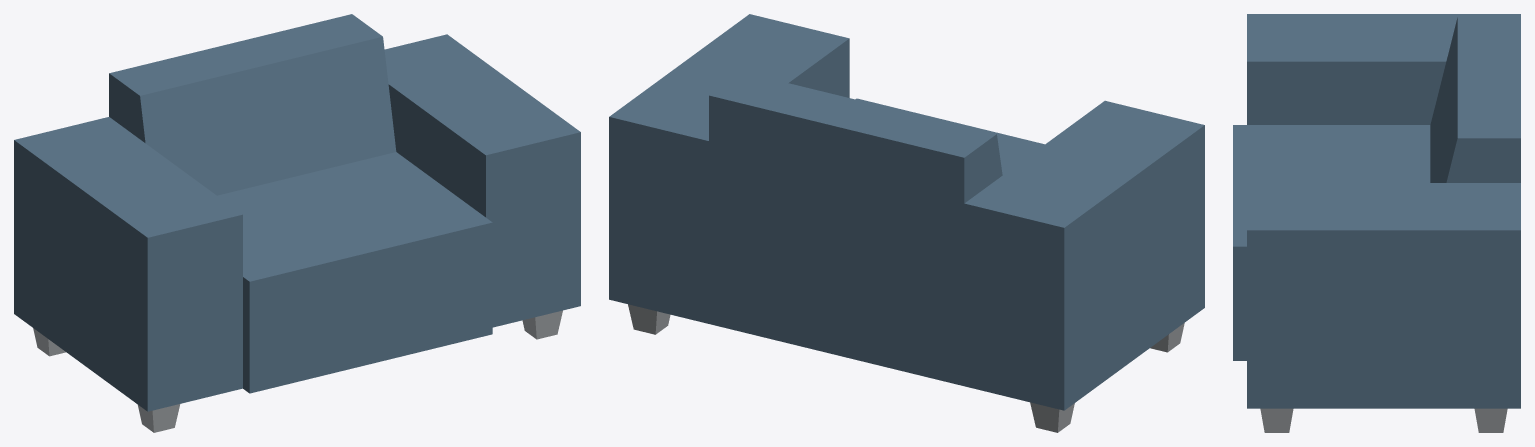
Rendered from armchair_modern.glb.
The picture shows the model from 3 angles, left to right: view 1: azimuth 30°, elevation 25°; view 2: azimuth 150°, elevation 25°; view 3: azimuth 270°, elevation 25°; orthographic projection. The views are drawn at different scales.
Parts seen in each view (by area): view 1: armchair_modern; view 2: armchair_modern; view 3: armchair_modern.
Part boxes in pixels (left/top/right/bottom): armchair_modern: left=14, top=14, right=580, bottom=432; armchair_modern: left=609, top=14, right=1204, bottom=432; armchair_modern: left=1233, top=14, right=1520, bottom=432.
Size of the model in its own units: 1.46 by 0.8 by 0.82.
